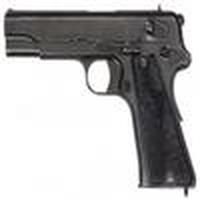gun: (5, 7, 200, 196)
